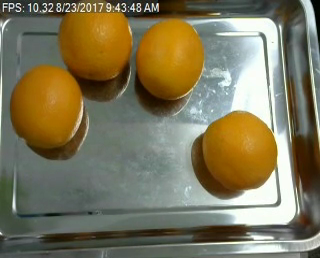Orange: (199, 109, 278, 190), (10, 65, 84, 149), (59, 1, 134, 81), (136, 17, 204, 100)
